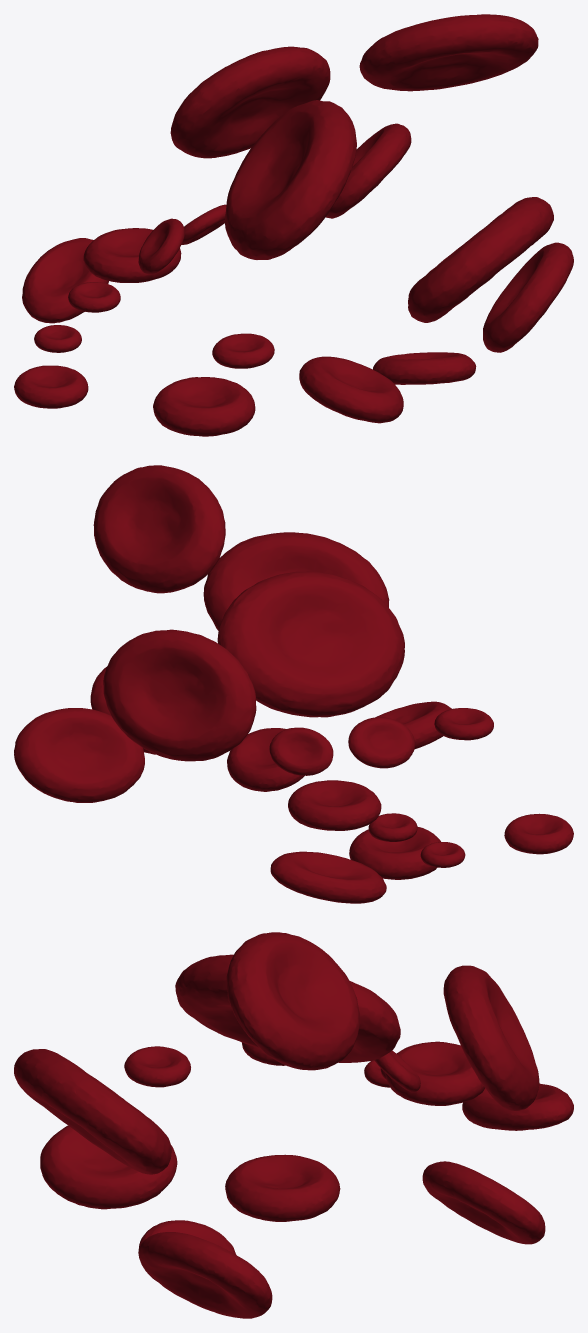
The model's file is blood.glb.
The picture shows the model from 3 angles, top to bottom: view 1: azimuth 30°, elevation 25°; view 2: azimuth 150°, elevation 25°; view 3: azimuth 270°, elevation 25°; orthographic projection. The views are drawn at different scales.
Visible parts, largest first — view 1: RBC_RBC_0; view 2: RBC_RBC_0; view 3: RBC_RBC_0.
Boxes of the visible parts, x1=… form: RBC_RBC_0: x1=14, y1=14, x2=573, y2=436; RBC_RBC_0: x1=14, y1=465, x2=573, y2=903; RBC_RBC_0: x1=14, y1=932, x2=573, y2=1318.
Size of the model in its own units: 0.5 by 0.318 by 0.4106.
